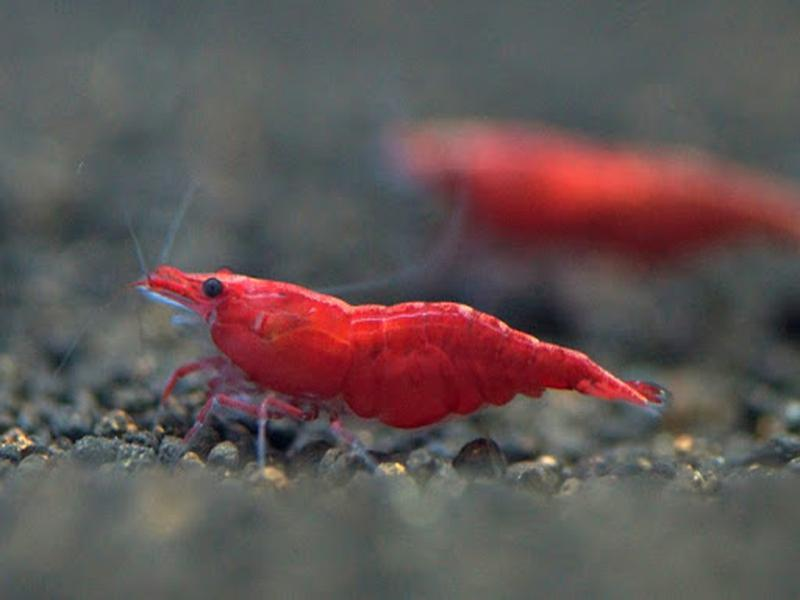shrimp: (144, 263, 667, 445)
